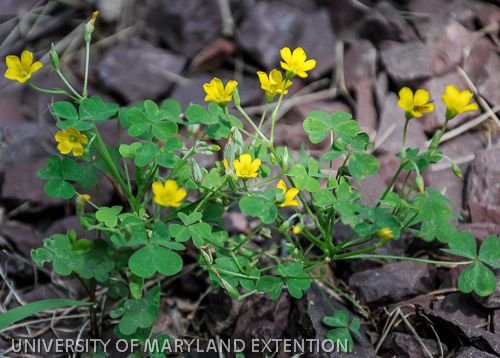oxalis: (53, 83, 220, 301), (257, 90, 407, 252), (200, 256, 318, 302), (448, 229, 500, 292), (321, 308, 376, 358)
